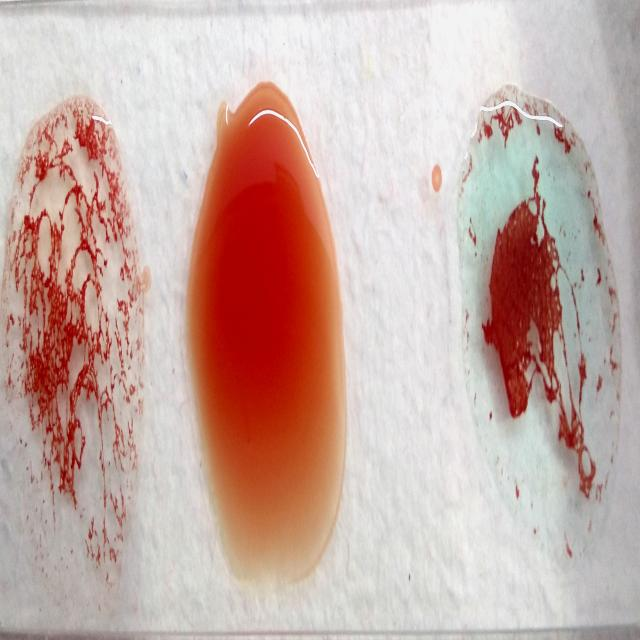A: (459, 96, 613, 556)
D: (2, 93, 144, 583)
